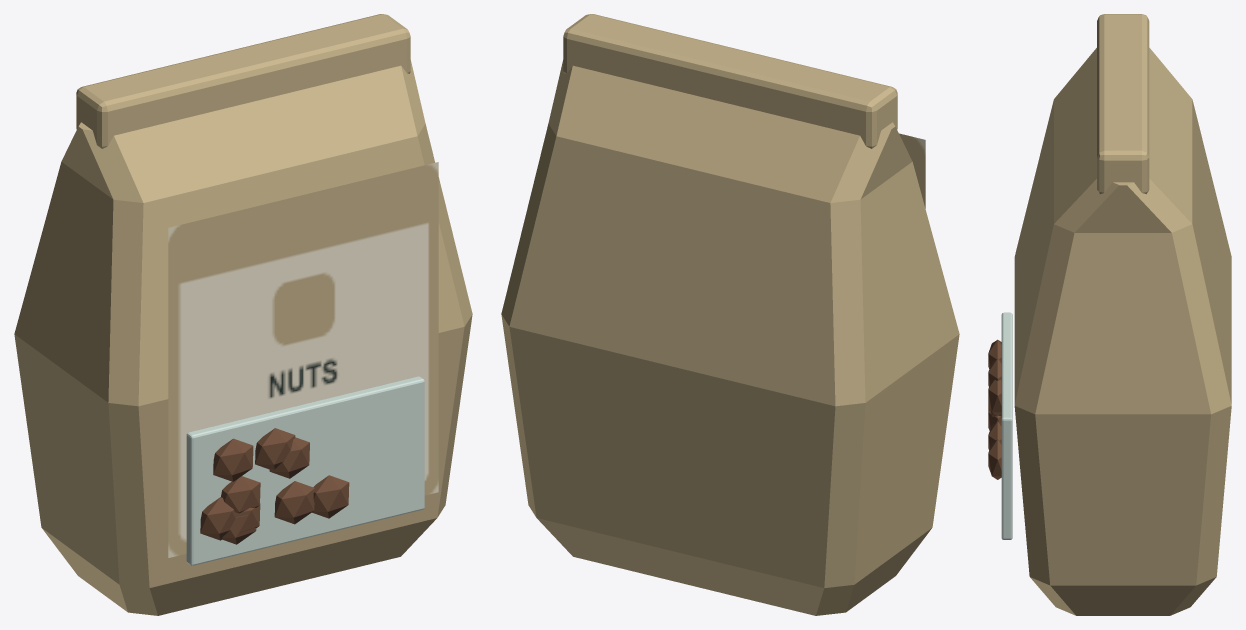
File: nuts.fbx
3 renders of one model, left to right at view 1: azimuth 30°, elevation 25°; view 2: azimuth 150°, elevation 25°; view 3: azimuth 270°, elevation 25°, orthographic. The views are drawn at different scales.
Visible parts, largest first — view 1: nuts; view 2: nuts; view 3: nuts.
Boxes of the visible parts, left/top/right/bottom form: nuts: left=14, top=14, right=472, bottom=615; nuts: left=501, top=14, right=959, bottom=615; nuts: left=988, top=14, right=1231, bottom=615.
Size of the model in its own units: 21 by 27.67 by 13.01.
